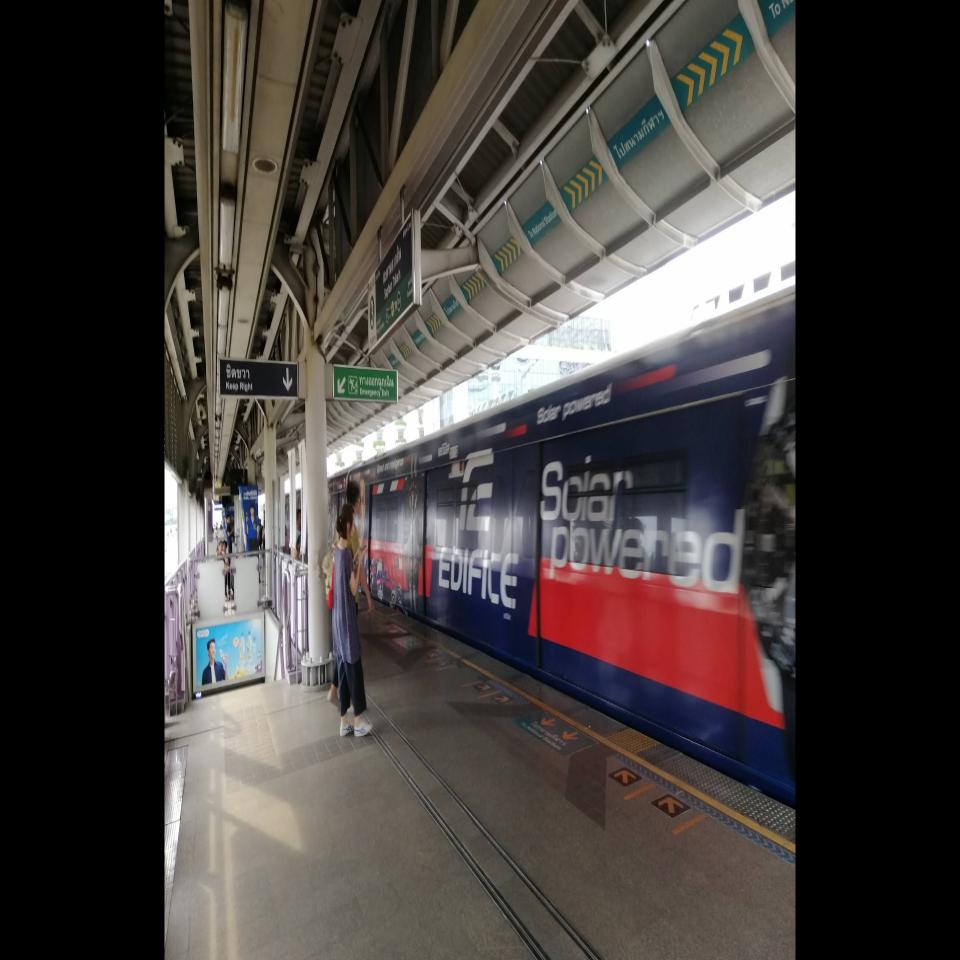Saphan Taksin: (383, 226, 402, 339)
